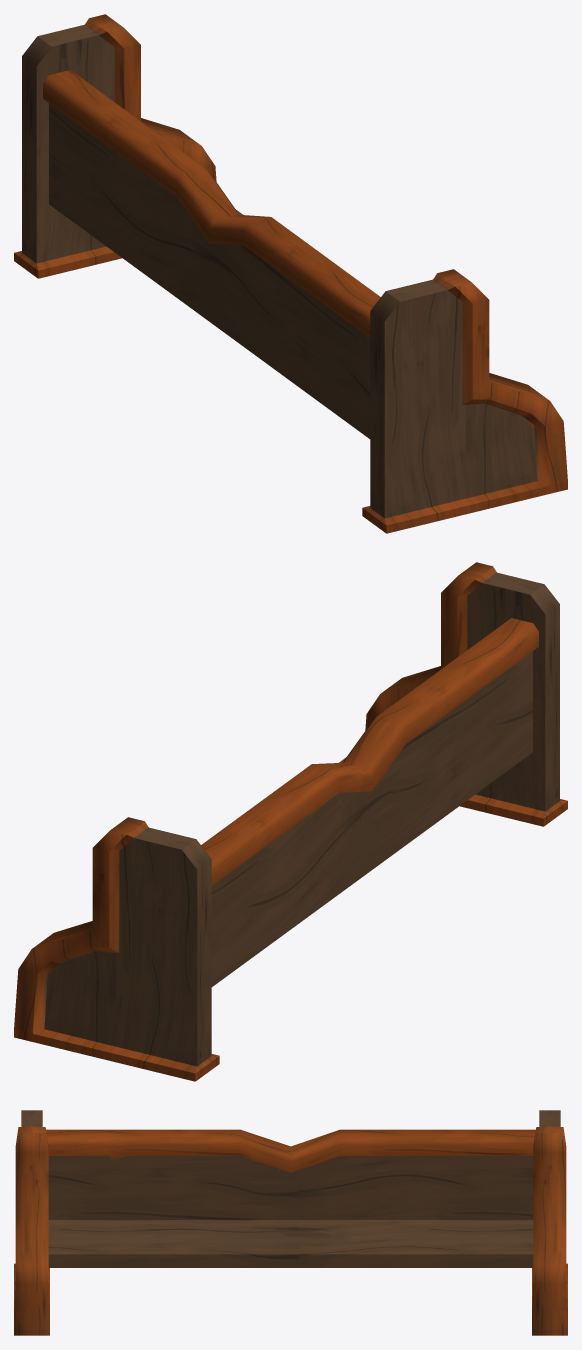
File: BD_Bench.fbx
3 renders of one model, top to bottom at view 1: azimuth 30°, elevation 25°; view 2: azimuth 150°, elevation 25°; view 3: azimuth 270°, elevation 25°, orthographic. The views are drawn at different scales.
Visible parts, largest first — view 1: BD_Bench; view 2: BD_Bench; view 3: BD_Bench.
Part boxes in pixels (x1,y1,x2,y2): BD_Bench: (14, 14, 567, 533); BD_Bench: (14, 562, 567, 1081); BD_Bench: (14, 1110, 567, 1335).
Size of the model in its own units: 1.8 by 2.16 by 6.42.
